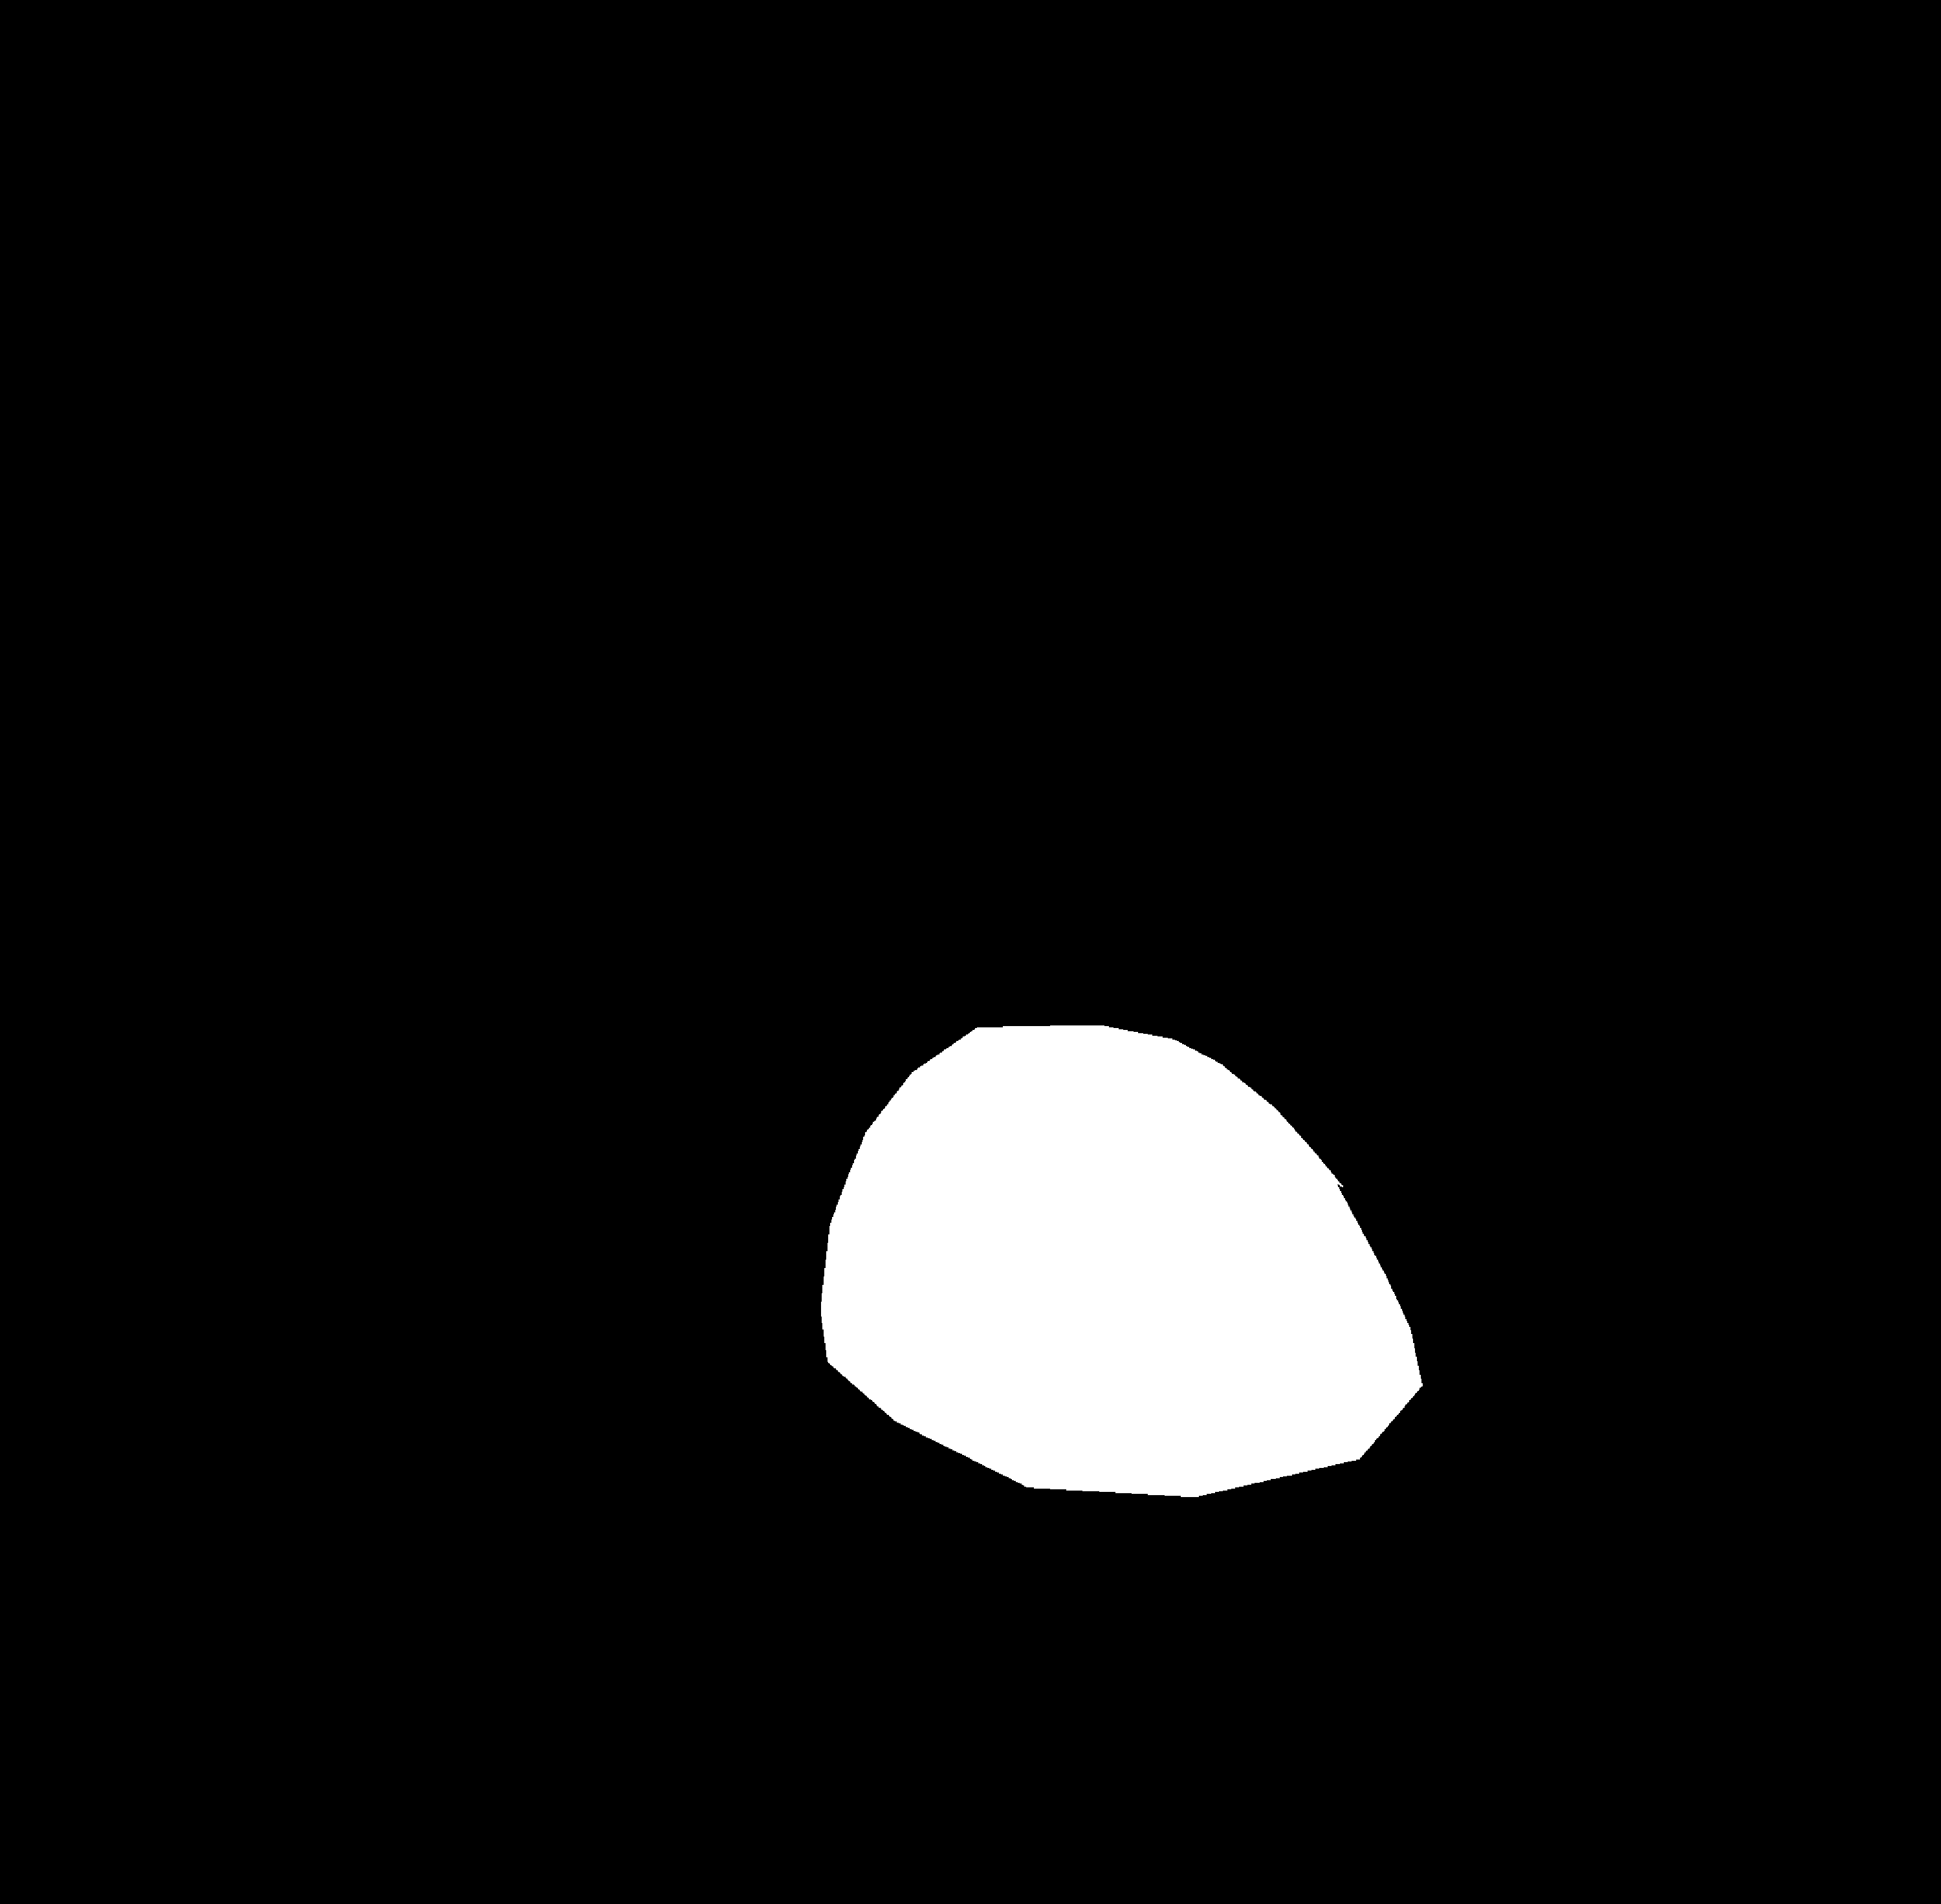heart: (813, 1088, 1425, 1538)
left_lung: (358, 314, 1008, 1580)
right_lung: (1156, 347, 1669, 1524)
